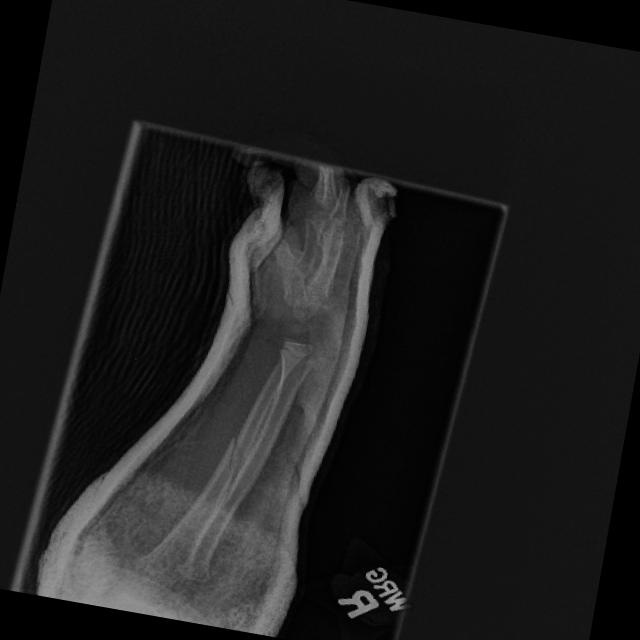forearm fracture: (175, 397, 290, 520)
